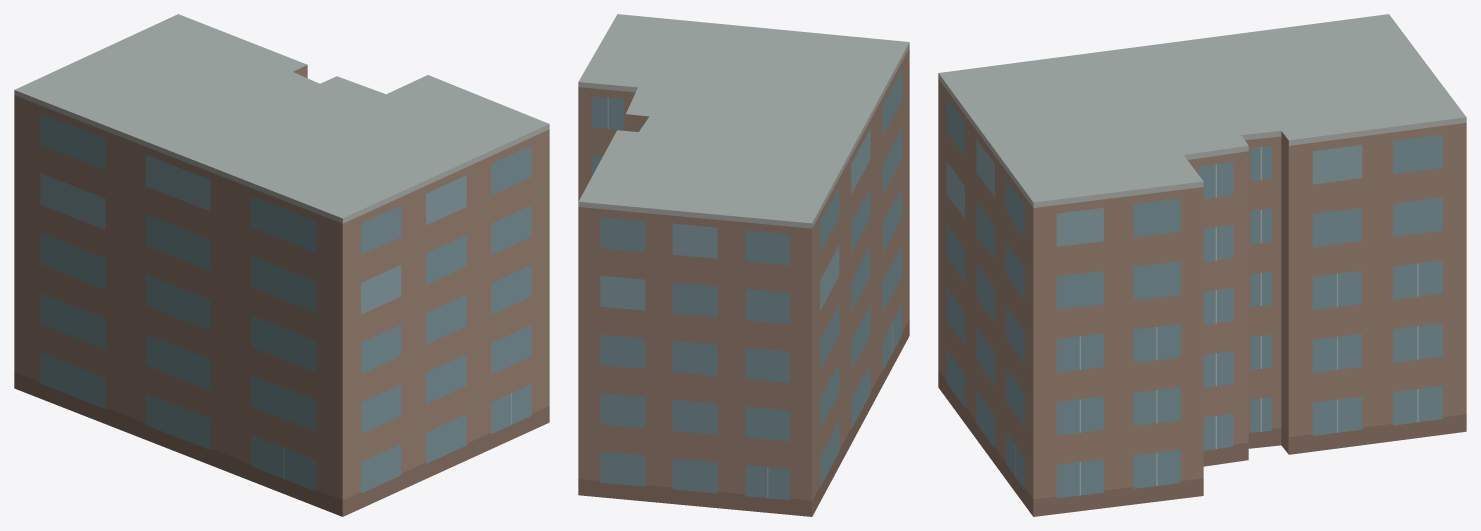
The model's file is survey-upis-32617783.glb.
The picture shows the model from 3 angles, left to right: view 1: azimuth 30°, elevation 25°; view 2: azimuth 150°, elevation 25°; view 3: azimuth 270°, elevation 25°; orthographic projection. The views are drawn at different scales.
Visible parts, largest first — view 1: survey-upis-32617783.tmp; view 2: survey-upis-32617783.tmp; view 3: survey-upis-32617783.tmp.
Part boxes in pixels (x1=…): survey-upis-32617783.tmp: x1=14, y1=14, x2=549, y2=516; survey-upis-32617783.tmp: x1=578, y1=14, x2=909, y2=516; survey-upis-32617783.tmp: x1=938, y1=14, x2=1466, y2=516.
Bounding box in the file's own units: 17.89 × 13.9 × 21.17.
